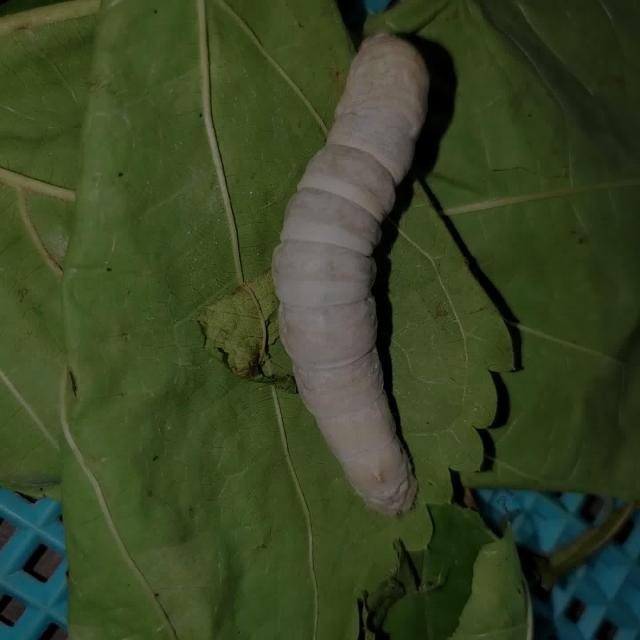Grasserie: (246, 8, 502, 538)
